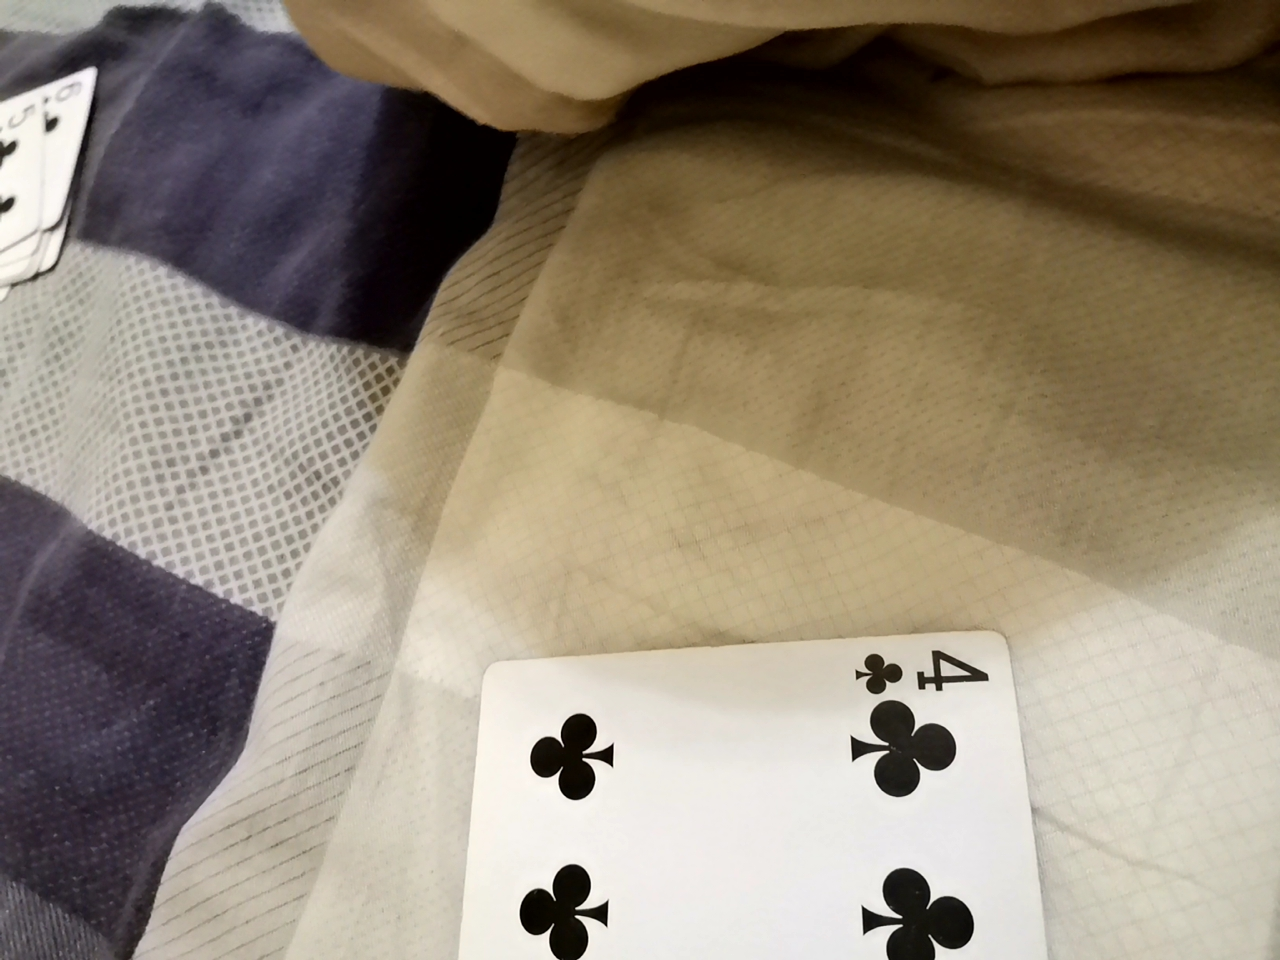mh 4: (458, 634, 1074, 960)
